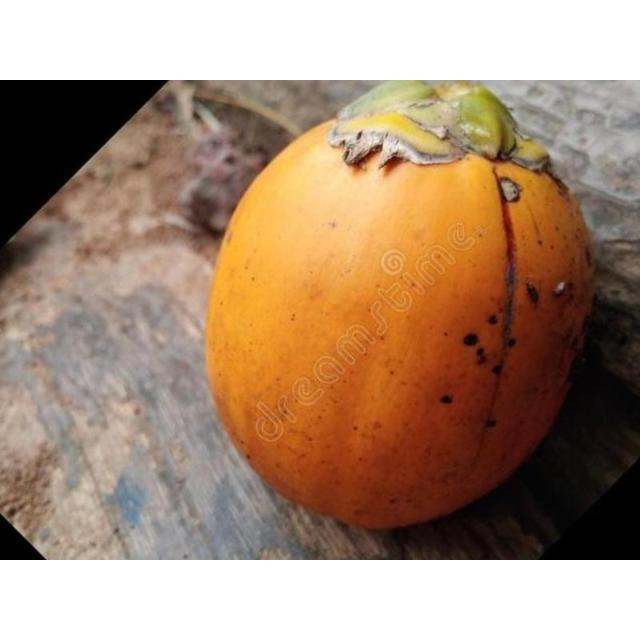good: (202, 80, 598, 534)
